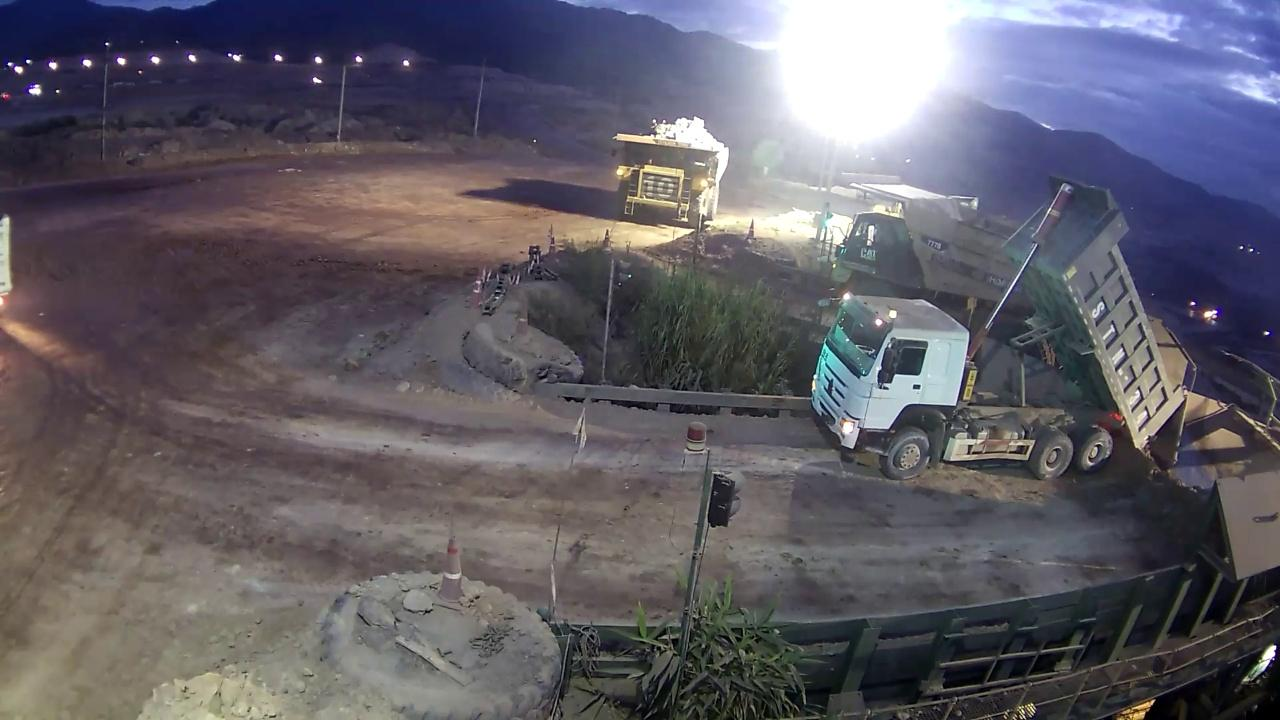front_number: (640, 173, 680, 203)
mining truck: (808, 174, 1196, 482)
mining_truck: (608, 108, 736, 233)
